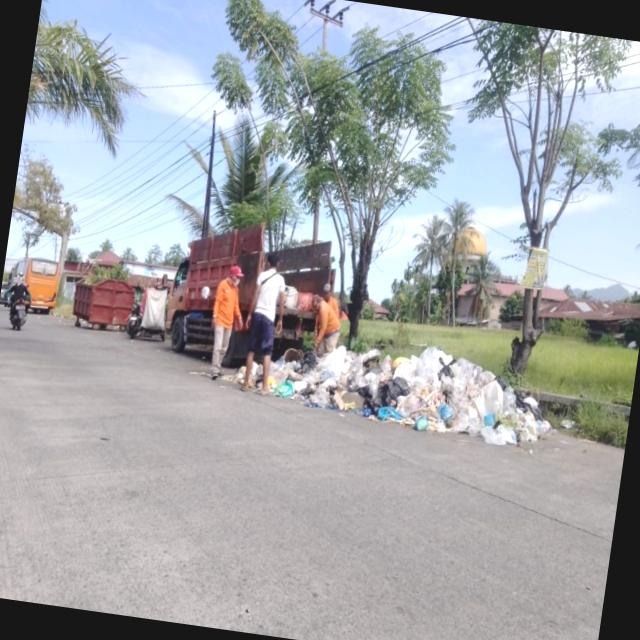garbage: (228, 319, 561, 452)
